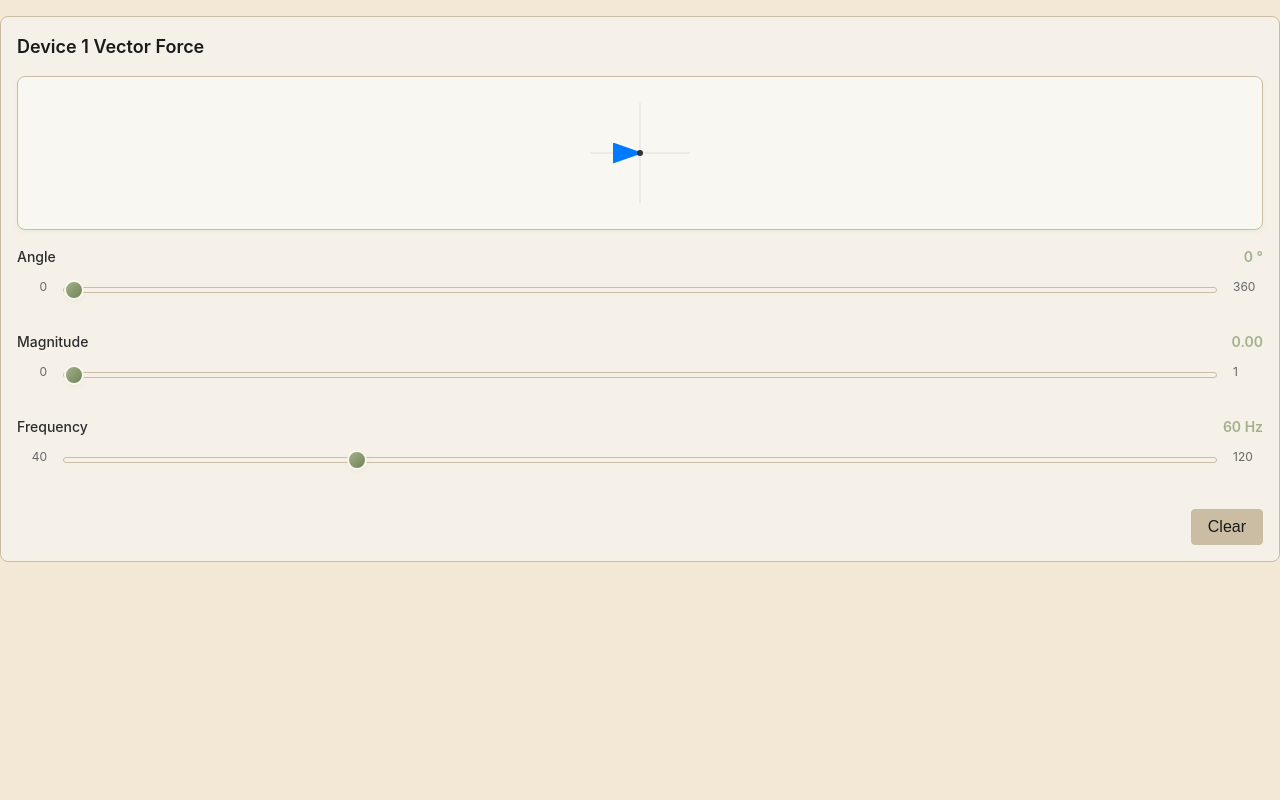
it: VectorControl › User Interactions › resets local state when Clear button is clicked
The image size is (1280, 800).
Set the slider next to "360" to "90" at (356, 290), box [63,287,1217,293]
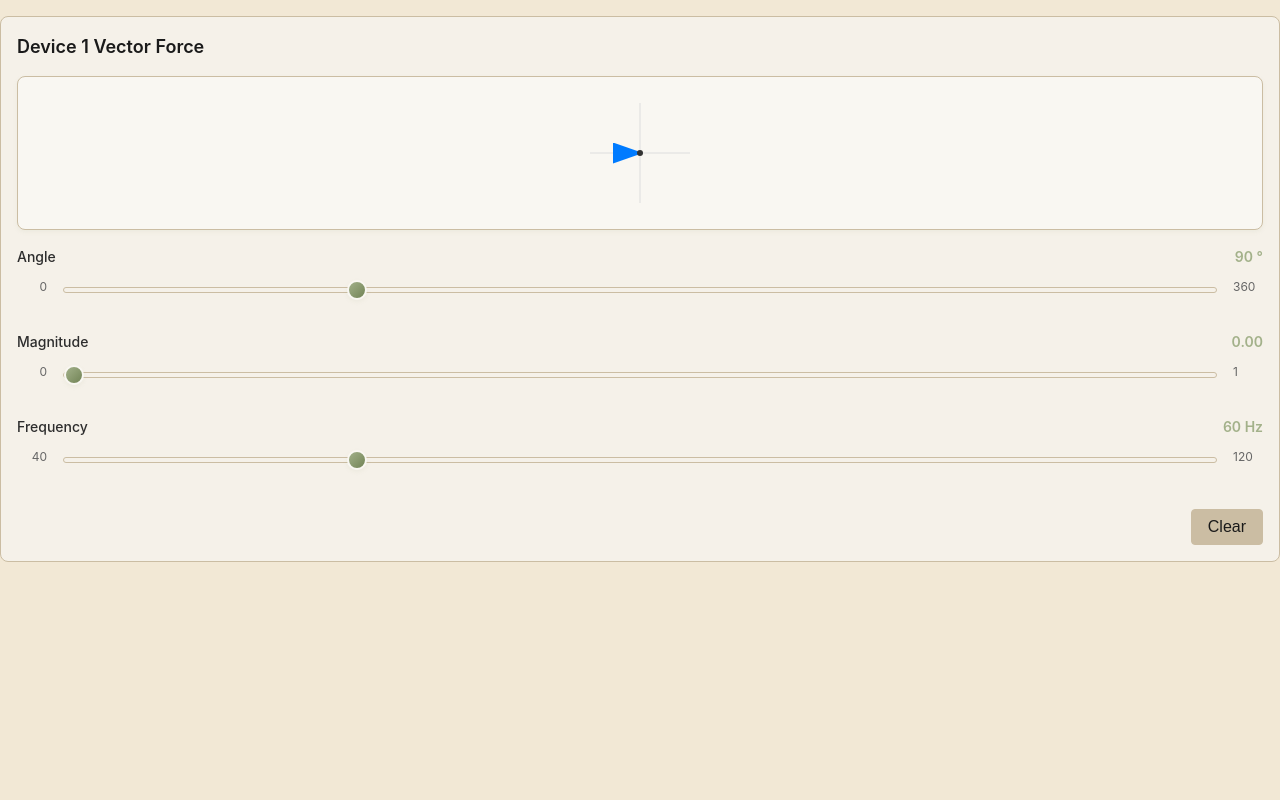
Set the slider below "Magnitude" to "0.5" at (640, 375), box [63,372,1217,378]
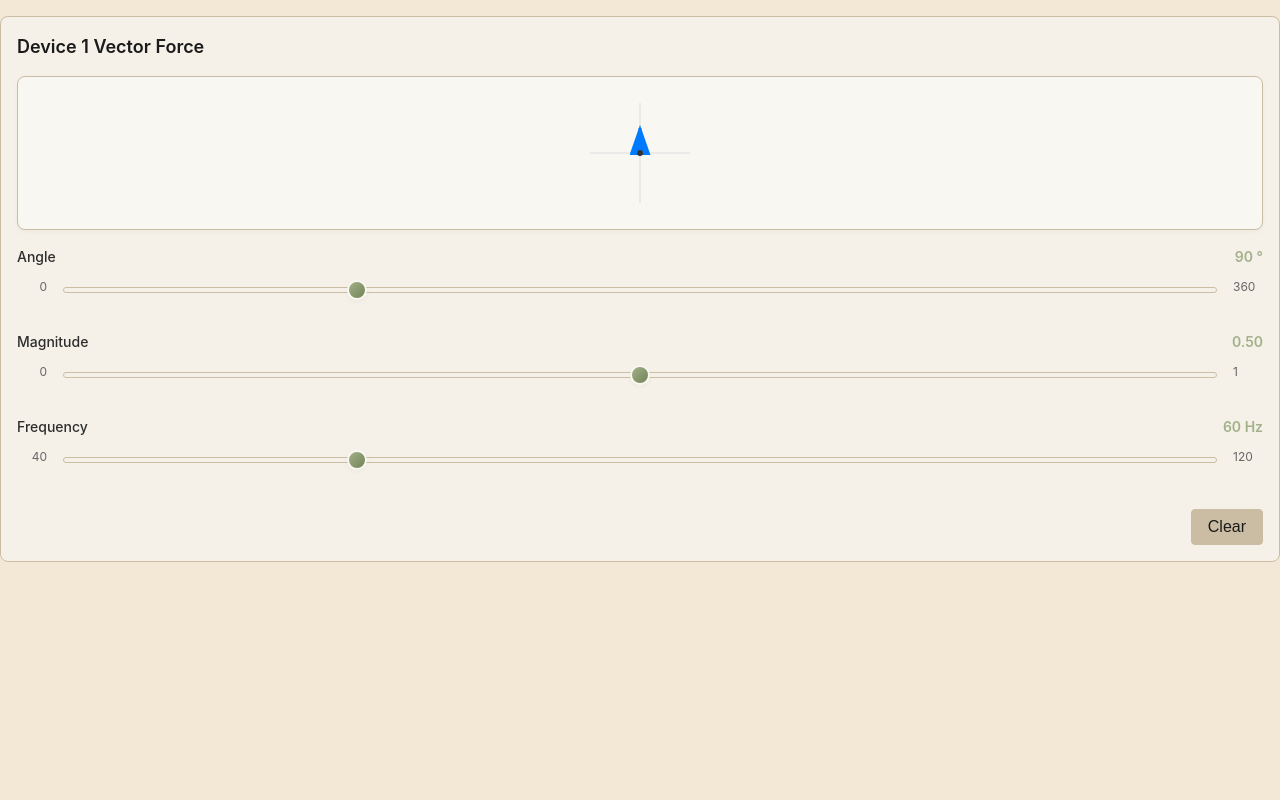
Click the button "Clear".
click(1227, 527)  # box [1191,509,1263,545]
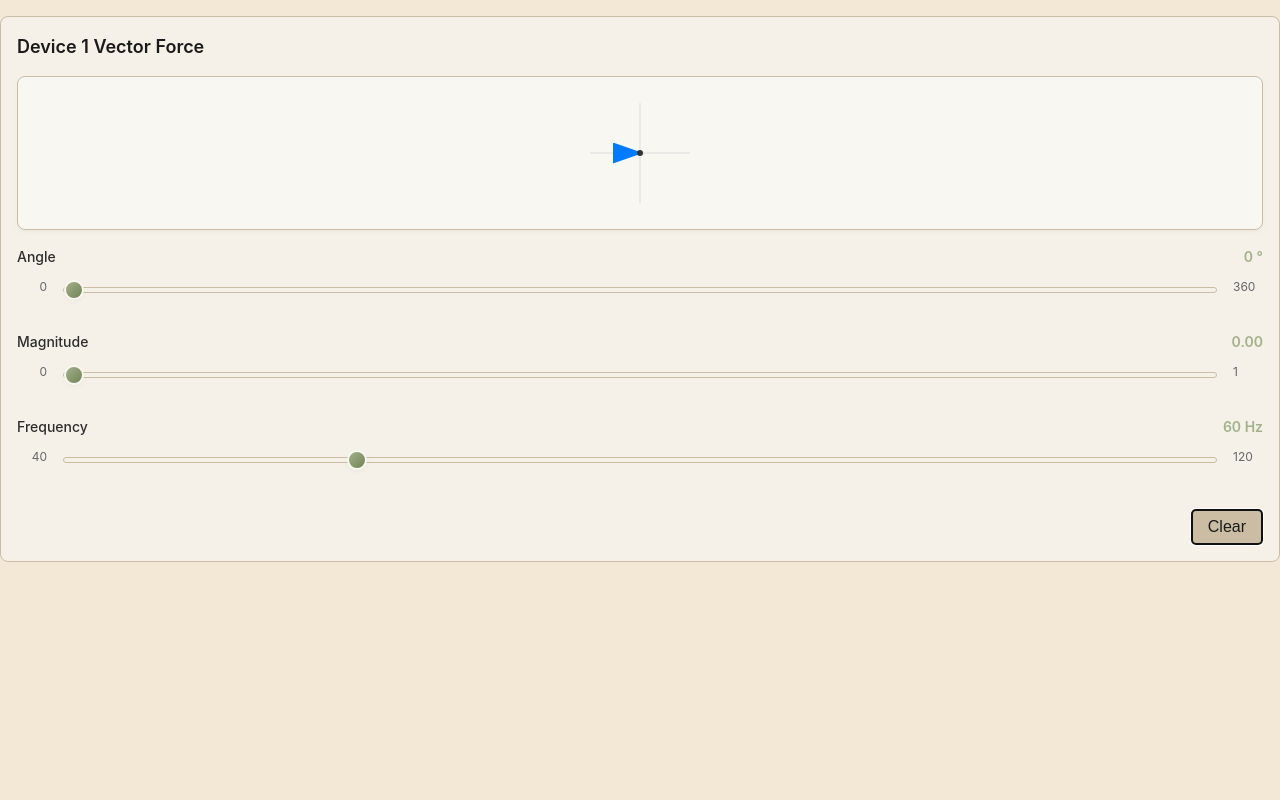
Expected: the slider next to "40" holds "60", [63,457,1217,463]
Expected: the slider next to "360" holds "0", [63,287,1217,293]
Expected: the slider below "Magnitude" holds "0", [63,372,1217,378]
